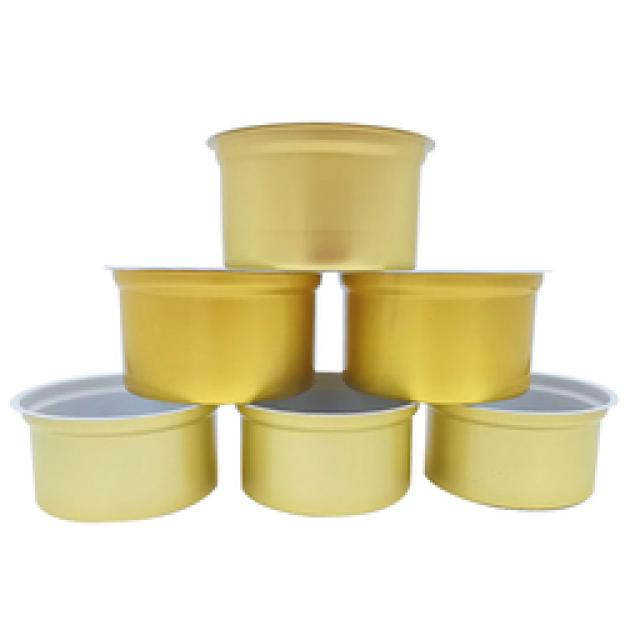alumunium: (15, 122, 608, 520)
